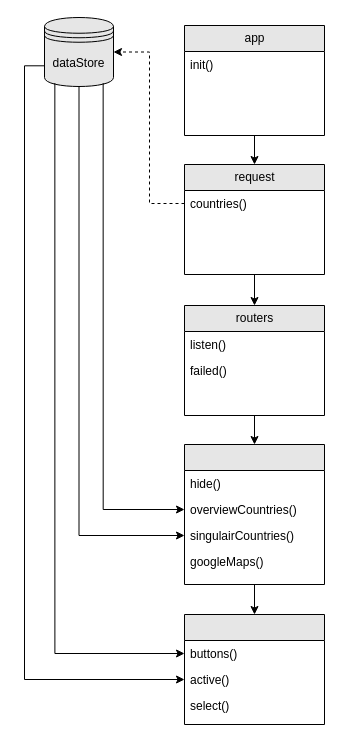
Image size: 342x742. Some labels were removed from this diagram. Here are the shapes that lost their labels. From the top down, the box of each, then its label:
(184, 444, 324, 584): sections
(184, 614, 324, 724): filterRegion
